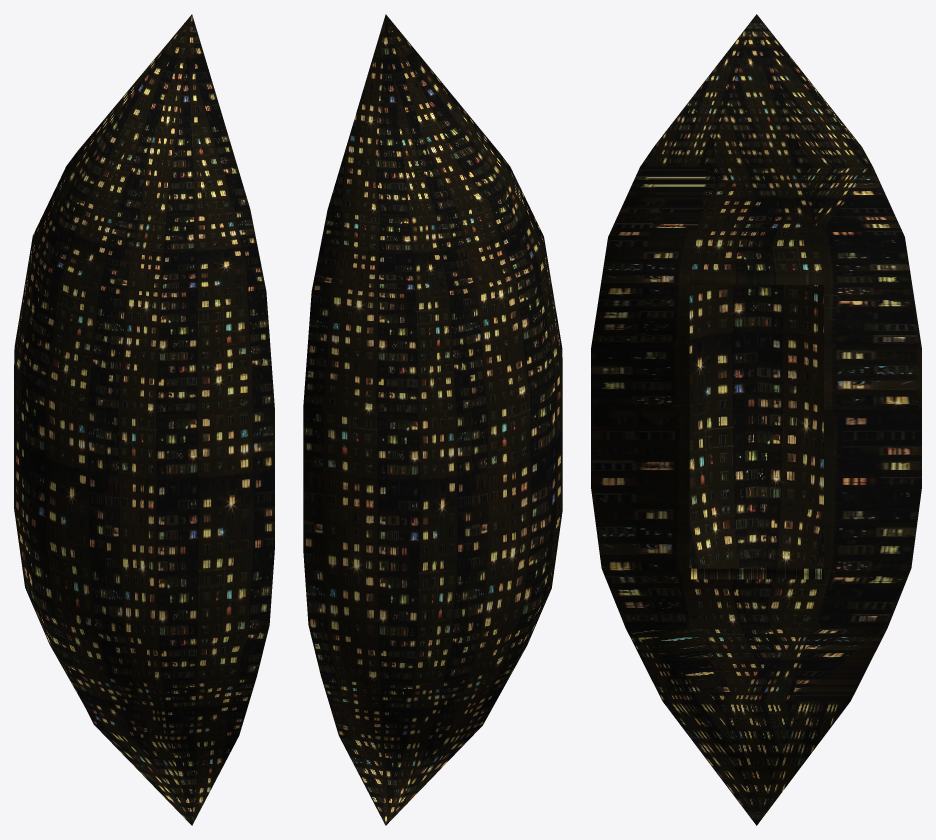
Rendered from InfinitiveWindows.fbx.
3 views of the same model, side by side, from view 1: azimuth 30°, elevation 25°; view 2: azimuth 150°, elevation 25°; view 3: azimuth 270°, elevation 25° (orthographic).
Visible parts, largest first — view 1: Plane.020; view 2: Plane.020; view 3: Plane.020.
Part boxes in pixels (x1=…): Plane.020: x1=14, y1=14, x2=274, y2=825; Plane.020: x1=303, y1=14, x2=562, y2=825; Plane.020: x1=591, y1=14, x2=921, y2=825.
Size of the model in its own units: 200 by 841 by 311.
1 material, 1 textured.
